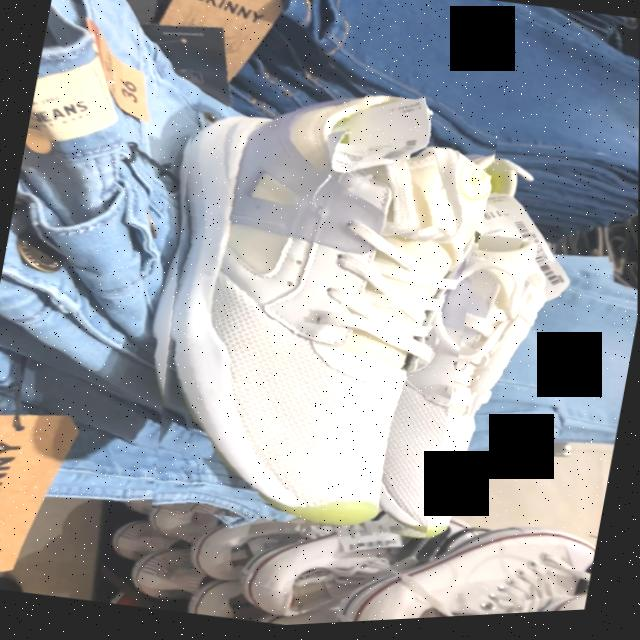shoe: (169, 101, 490, 532)
